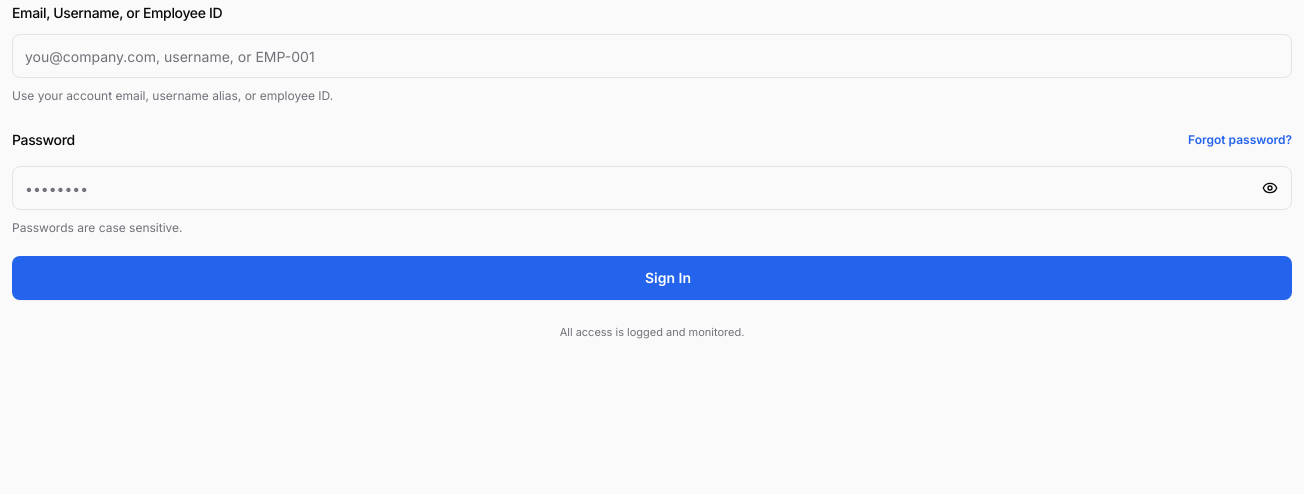
Test: LoginForm › shows structured invalid-credentials error without revealing account existence
Step 1. Type "someone" into the field labelled "Email, Username, or Employee ID" → {"x": 652, "y": 56}, box [12,34,1292,78]
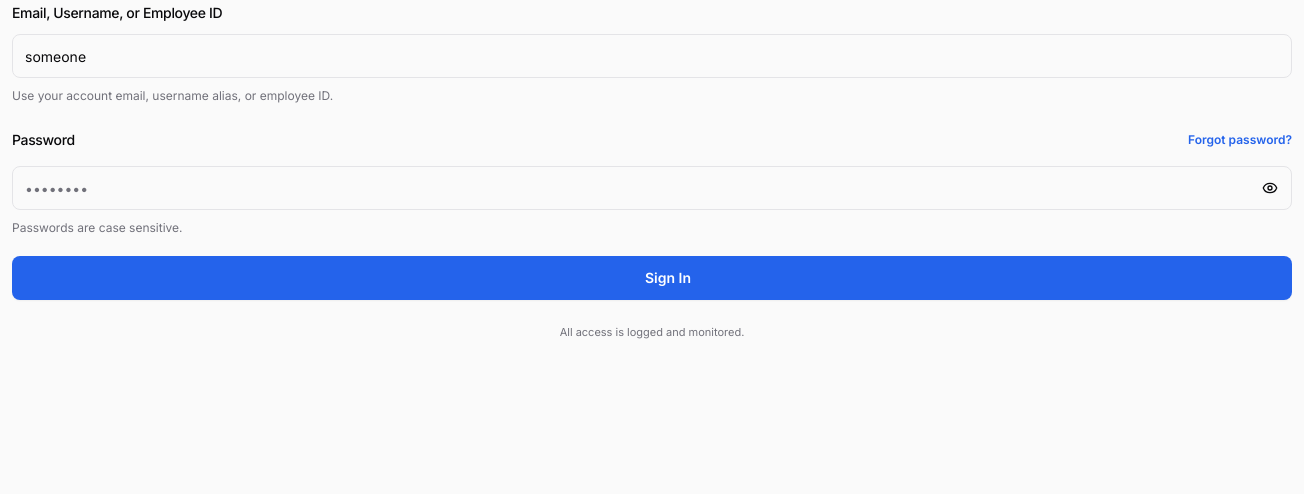
Step 2. Type "bad-pass" into the password field labelled "Password" → {"x": 652, "y": 188}, box [12,166,1292,210]
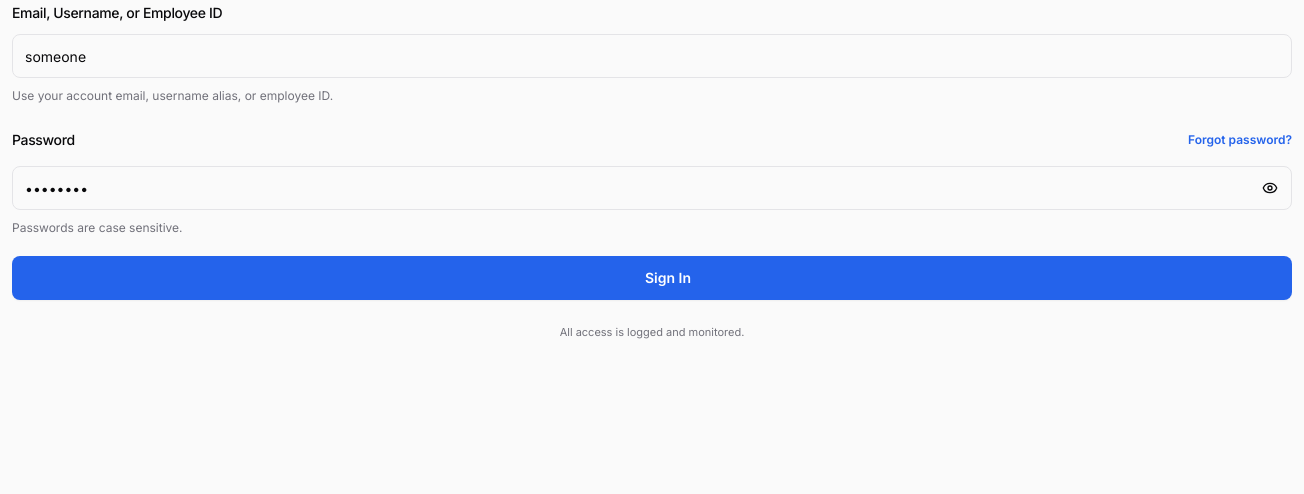
Step 3. Click the button "Sign In" → {"x": 652, "y": 278}, box [12,256,1292,300]
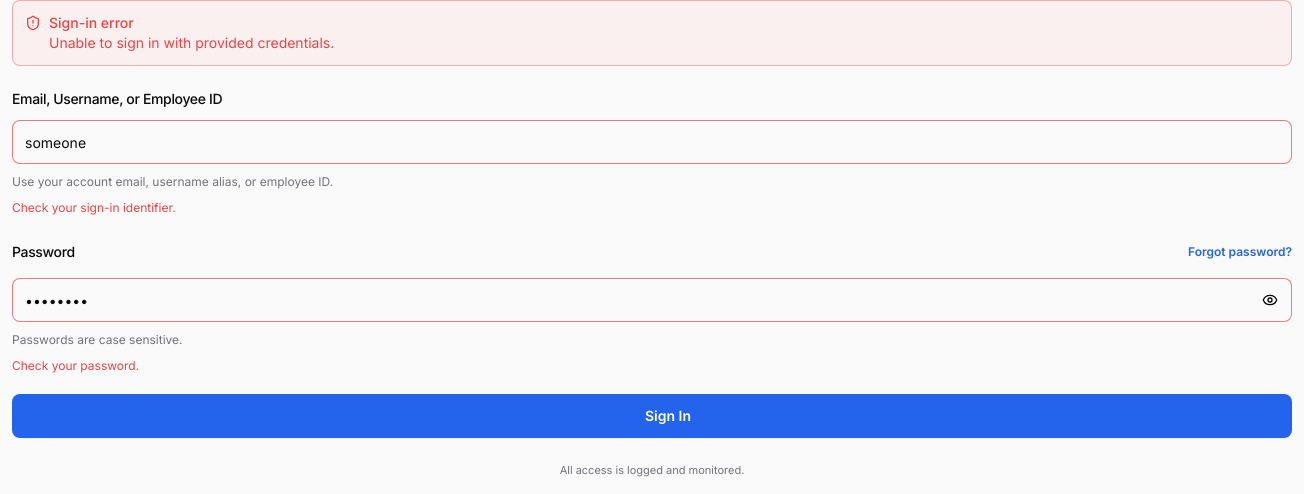
Expected: the message shows "Unable to sign in with provided credentials", [49,34,334,51]
